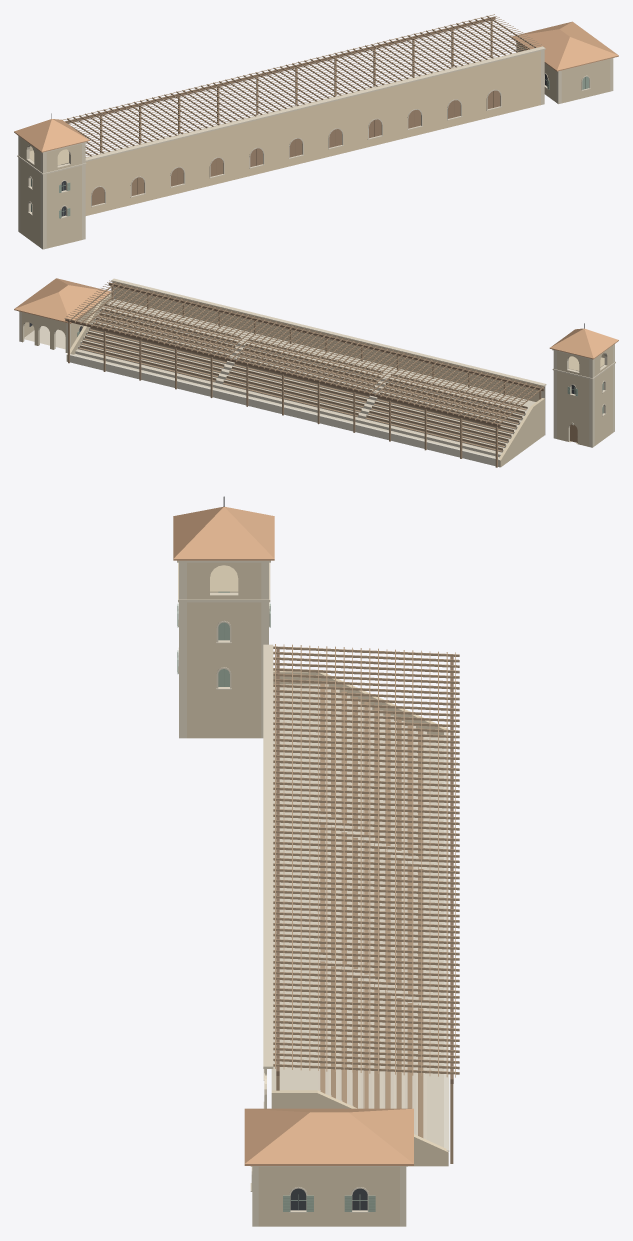
The model's file is SM_BM_BHip_SecondStand.glb.
3 views of the same model, one above another, from view 1: azimuth 30°, elevation 25°; view 2: azimuth 150°, elevation 25°; view 3: azimuth 270°, elevation 25° (orthographic). The views are drawn at different scales.
Parts seen in each view (by area): view 1: SM_BM_BHip_SecondStand; view 2: SM_BM_BHip_SecondStand; view 3: SM_BM_BHip_SecondStand.
Boxes of the visible parts, box(x1,y1,x2,y2) form: SM_BM_BHip_SecondStand: box(14, 14, 618, 249); SM_BM_BHip_SecondStand: box(14, 278, 618, 467); SM_BM_BHip_SecondStand: box(173, 496, 459, 1226).
Bounding box in the file's own units: 98.05 × 19.16 × 22.3.
